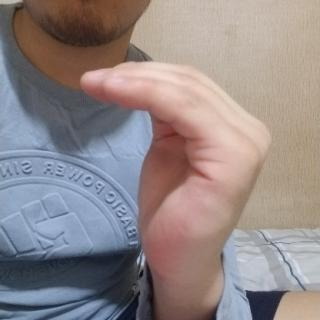HAA: (74, 53, 279, 290)
